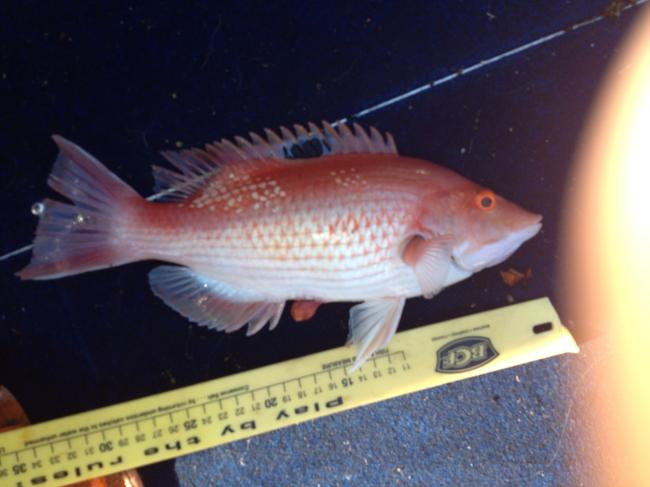fish: (22, 120, 543, 368)
